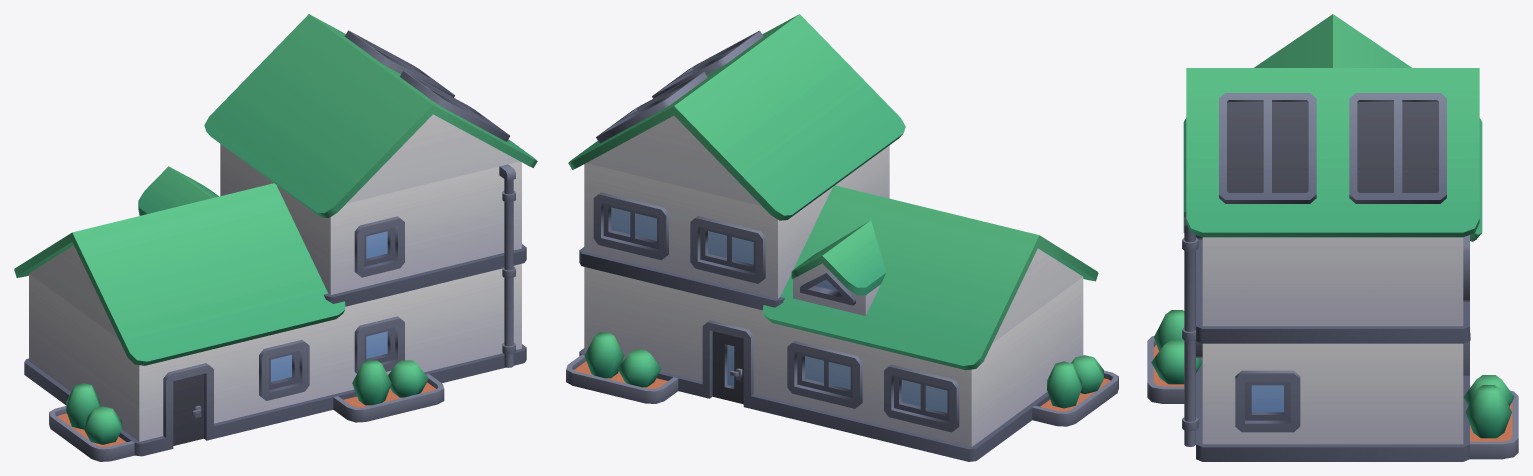
File: house_b.glb
3 renders of one model, left to right at view 1: azimuth 30°, elevation 25°; view 2: azimuth 150°, elevation 25°; view 3: azimuth 270°, elevation 25°, orthographic. The views are drawn at different scales.
Parts seen in each view (by area): view 1: building-type-b; view 2: building-type-b; view 3: building-type-b.
Boxes of the visible parts, <box> form: building-type-b: <box>14,14,537,461</box>; building-type-b: <box>566,14,1118,461</box>; building-type-b: <box>1147,14,1518,461</box>.
Bounding box in the file's own units: 14.62 × 9.1 × 9.12.
1 material, 1 textured.
